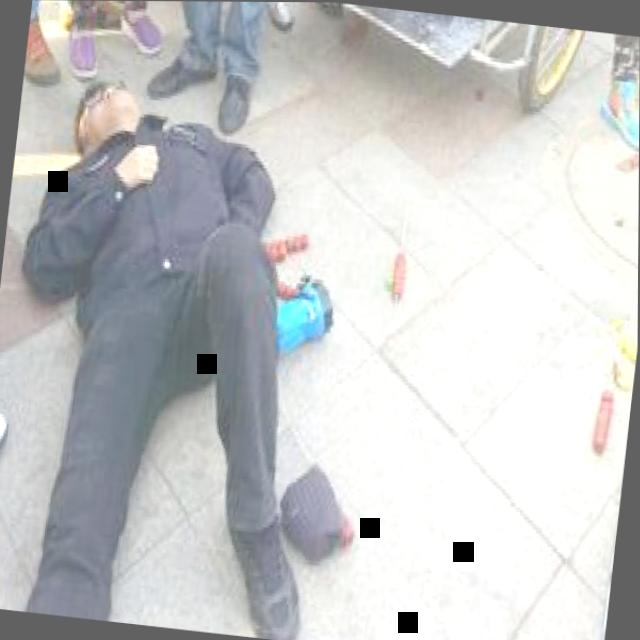Fall-Detected: (0, 9, 386, 640)
